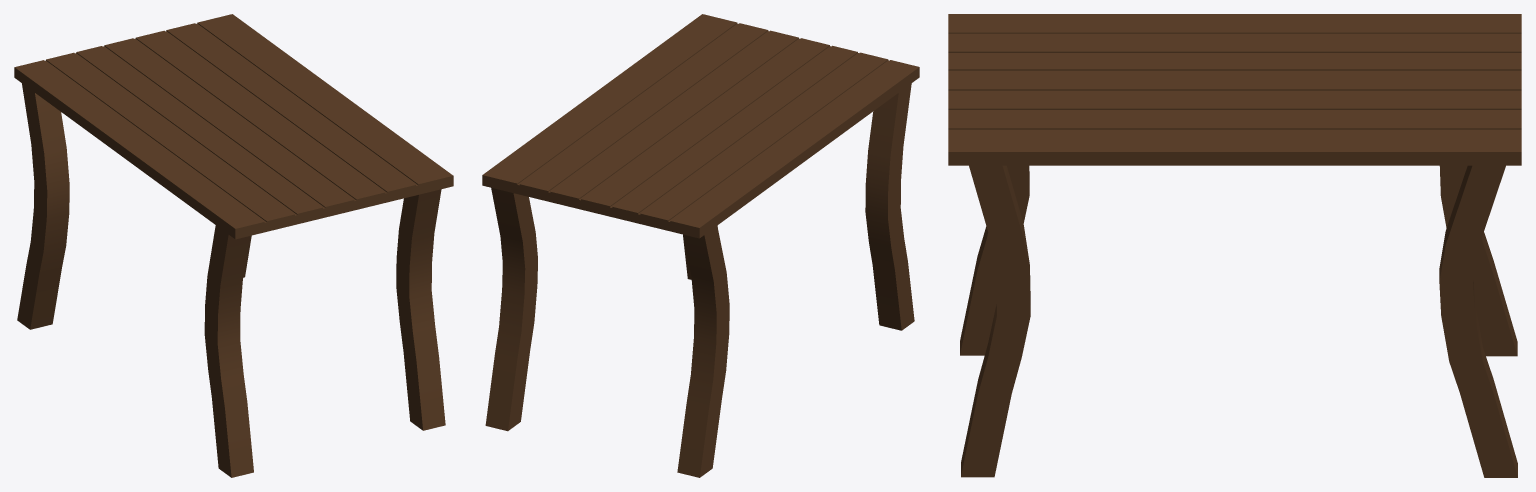
The model's file is table.fbx.
3 renders of one model, left to right at view 1: azimuth 30°, elevation 25°; view 2: azimuth 150°, elevation 25°; view 3: azimuth 270°, elevation 25°, orthographic. The views are drawn at different scales.
Parts seen in each view (by area): view 1: group1_pasted__group_pasted__pasted__pCube1; view 2: group1_pasted__group_pasted__pasted__pCube1; view 3: group1_pasted__group_pasted__pasted__pCube1.
Boxes of the visible parts, <box> form: group1_pasted__group_pasted__pasted__pCube1: <box>14,14,453,477</box>; group1_pasted__group_pasted__pasted__pCube1: <box>482,14,919,477</box>; group1_pasted__group_pasted__pasted__pCube1: <box>948,14,1521,477</box>.
Bounding box in the file's own units: 10.4 × 11.5 × 18.25.
